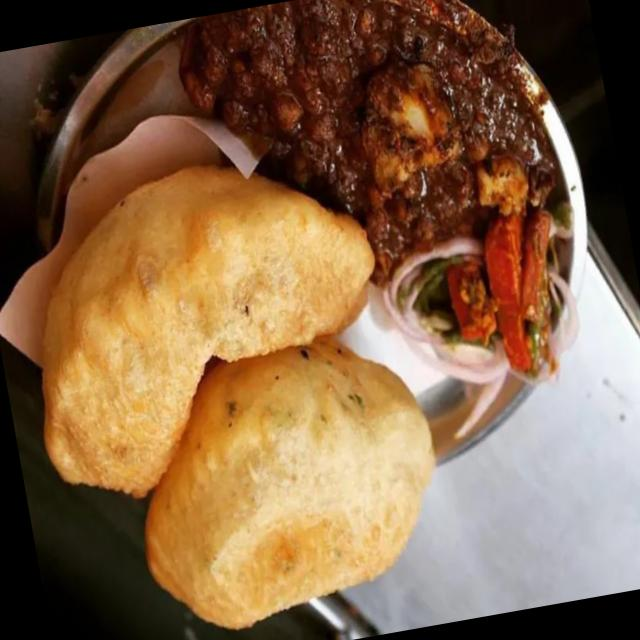Bhatura: (0, 133, 459, 640)
Chole: (179, 0, 571, 302)
